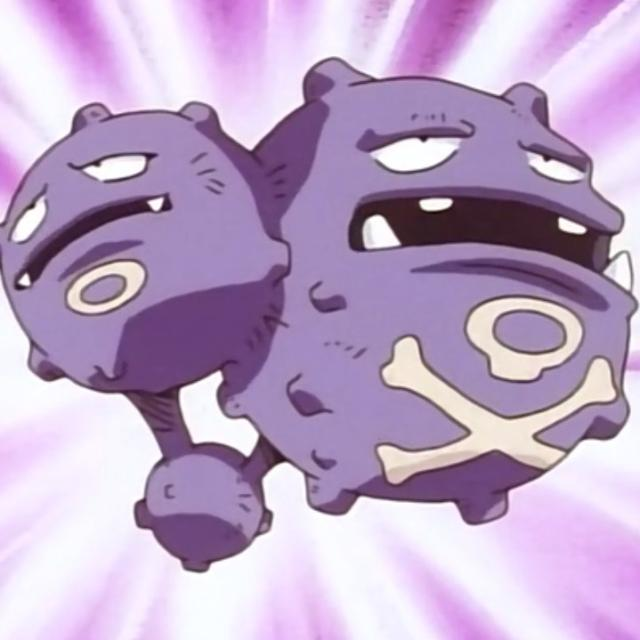Weezing: (0, 66, 640, 562)
